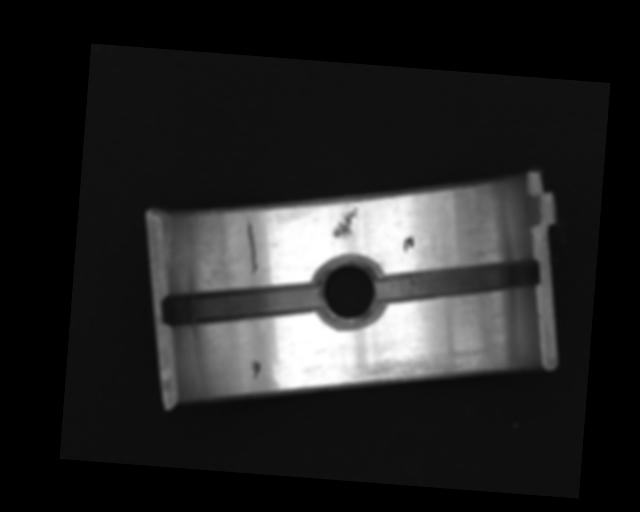blot: (401, 234, 416, 255)
bruise: (332, 205, 359, 240), (250, 360, 261, 380)
gap: (375, 249, 540, 314), (162, 271, 321, 335)
hole: (312, 256, 385, 331)
nick: (242, 215, 261, 275)
scratch: (349, 340, 488, 394)
